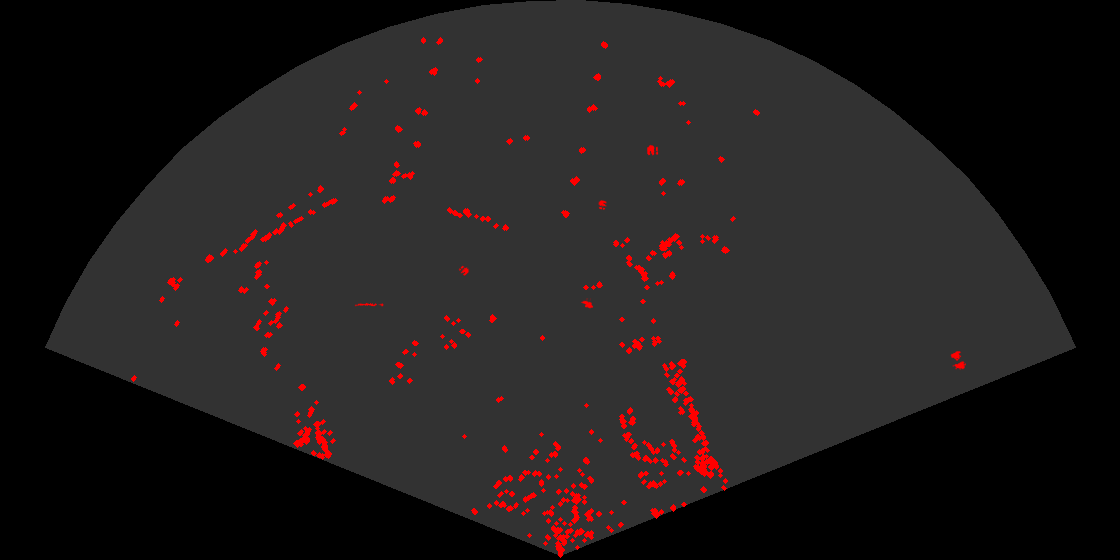AUV: (580, 298, 595, 310)
ball: (646, 143, 660, 157), (457, 264, 471, 277), (597, 199, 608, 211)
cage: (949, 350, 966, 372)
chain: (354, 301, 384, 308)
